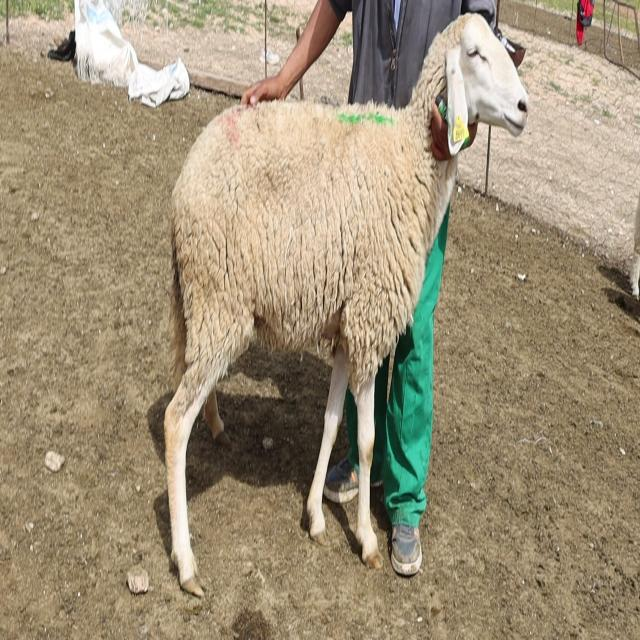Score_1: (164, 14, 529, 597)
